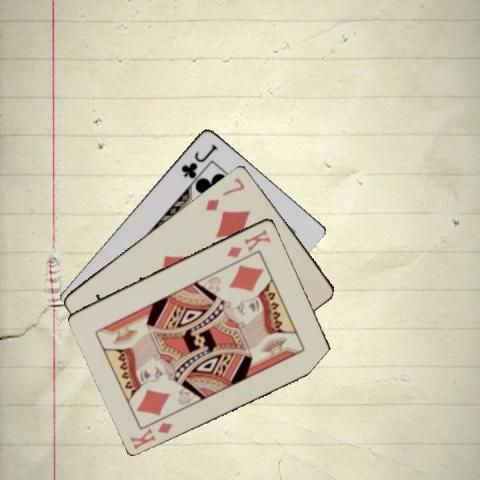7d: (202, 175, 246, 212)
Jc: (178, 141, 219, 179)
Kd: (127, 409, 175, 450), (223, 226, 273, 259)
